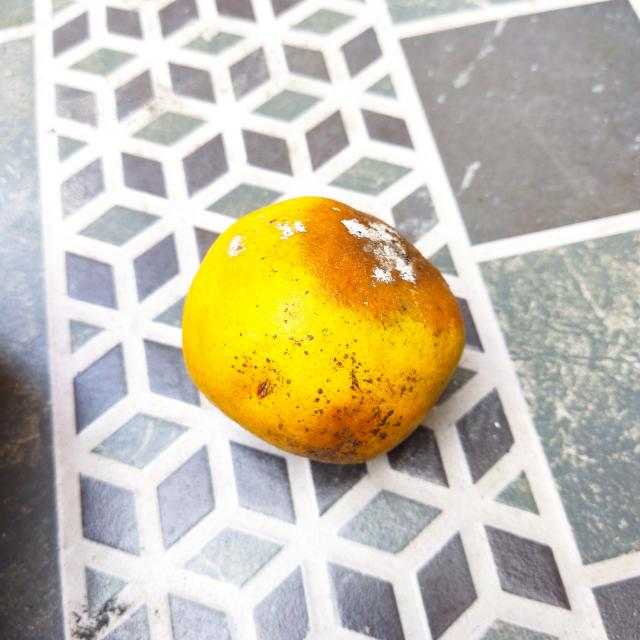orange: (180, 193, 468, 468)
